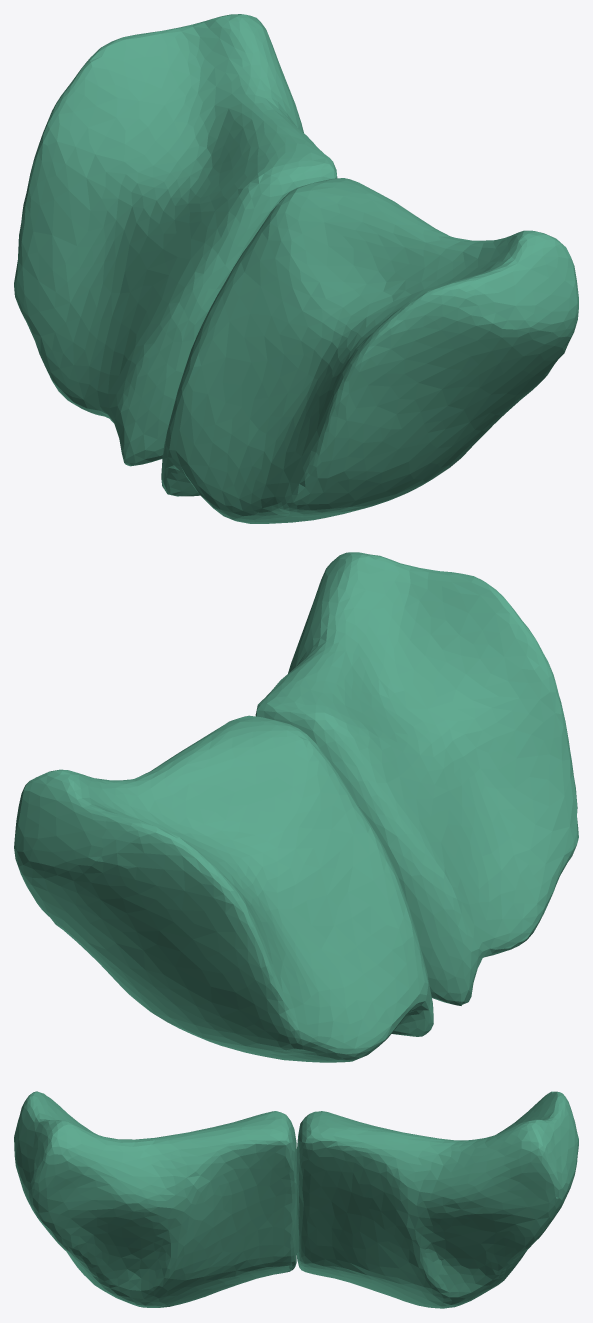
3 views of the same model, one above another, from view 1: azimuth 30°, elevation 25°; view 2: azimuth 150°, elevation 25°; view 3: azimuth 270°, elevation 25° (orthographic). The views are drawn at different scales.
Visible parts, largest first — view 1: 714.obj; view 2: 714.obj; view 3: 714.obj.
Part boxes in pixels (<box>): 714.obj: <box>14,14,578,523</box>; 714.obj: <box>14,552,578,1062</box>; 714.obj: <box>14,1091,578,1308</box>.
Size of the model in its own units: 1889 by 1958 by 4224.
